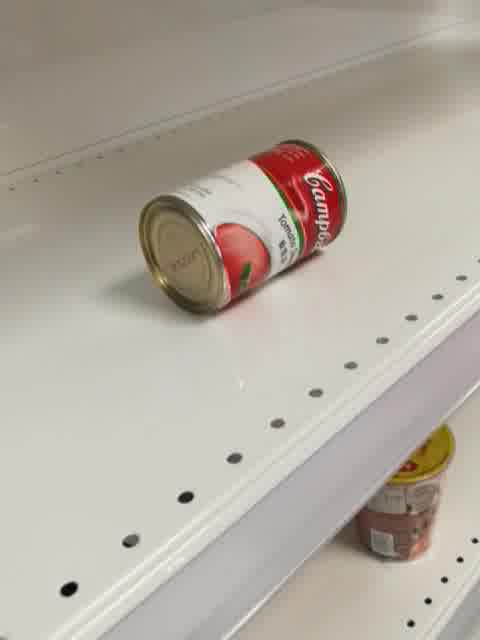tomatosoup: (138, 138, 347, 315)
